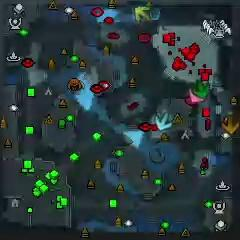x1: (188, 88, 205, 105)
x2: (135, 6, 151, 22)
x3: (155, 112, 173, 130)
x4: (193, 79, 211, 97)
x5: (223, 116, 239, 134)
